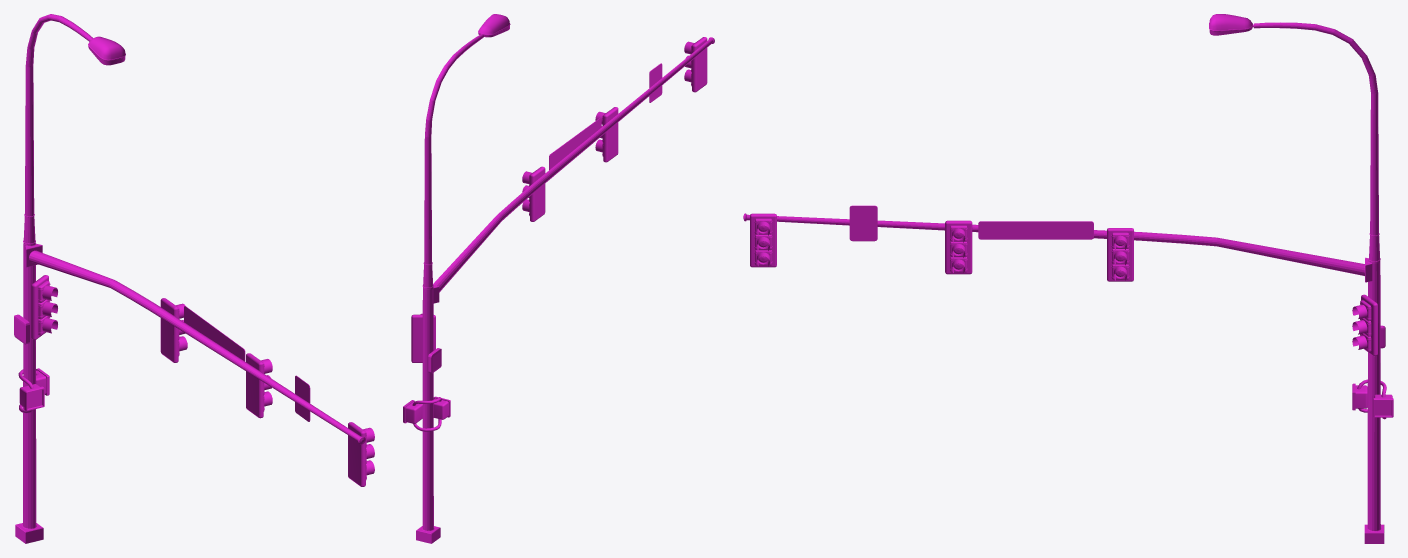
The model's file is TrafficLightMap2_v1.fbx.
3 views of the same model, side by side, from view 1: azimuth 30°, elevation 25°; view 2: azimuth 150°, elevation 25°; view 3: azimuth 270°, elevation 25° (orthographic). The views are drawn at different scales.
Parts seen in each view (by area): view 1: TrafficLightMap2_v1_mainBody, TrafficLightMap2_v1_signs, TrafficLightMap2_v1_light_1_4, TrafficLightMap2_v1_light_5_4, TrafficLightMap2_v1_light_3_4, TrafficLightMap2_v1_light_2_4, TrafficLightMap2_v1_light_4_3; view 2: TrafficLightMap2_v1_mainBody, TrafficLightMap2_v1_signs, TrafficLightMap2_v1_light_4_3, TrafficLightMap2_v1_light_5_4, TrafficLightMap2_v1_light_2_4, TrafficLightMap2_v1_light_3_4, TrafficLightMap2_v1_light_1_4; view 3: TrafficLightMap2_v1_mainBody, TrafficLightMap2_v1_signs, TrafficLightMap2_v1_light_3_4, TrafficLightMap2_v1_light_5_4, TrafficLightMap2_v1_light_2_4, TrafficLightMap2_v1_light_1_4, TrafficLightMap2_v1_light_4_3.
Boxes of the visible parts, x1=… form: TrafficLightMap2_v1_mainBody: x1=14, y1=14, x2=365, y2=543; TrafficLightMap2_v1_signs: x1=184, y1=306, x2=310, y2=421; TrafficLightMap2_v1_light_1_4: x1=31, y1=275, x2=57, y2=339; TrafficLightMap2_v1_light_5_4: x1=348, y1=422, x2=374, y2=486; TrafficLightMap2_v1_light_3_4: x1=246, y1=353, x2=272, y2=418; TrafficLightMap2_v1_light_2_4: x1=160, y1=298, x2=187, y2=362; TrafficLightMap2_v1_light_4_3: x1=18, y1=368, x2=49, y2=413; TrafficLightMap2_v1_mainBody: x1=416, y1=14, x2=714, y2=543; TrafficLightMap2_v1_signs: x1=549, y1=63, x2=662, y2=169; TrafficLightMap2_v1_light_4_3: x1=403, y1=396, x2=450, y2=431; TrafficLightMap2_v1_light_5_4: x1=684, y1=37, x2=707, y2=92; TrafficLightMap2_v1_light_2_4: x1=522, y1=166, x2=545, y2=221; TrafficLightMap2_v1_light_3_4: x1=595, y1=107, x2=618, y2=162; TrafficLightMap2_v1_light_1_4: x1=411, y1=313, x2=435, y2=362; TrafficLightMap2_v1_mainBody: x1=743, y1=14, x2=1385, y2=543; TrafficLightMap2_v1_signs: x1=849, y1=205, x2=1093, y2=241; TrafficLightMap2_v1_light_3_4: x1=945, y1=220, x2=972, y2=274; TrafficLightMap2_v1_light_5_4: x1=750, y1=213, x2=776, y2=267; TrafficLightMap2_v1_light_2_4: x1=1107, y1=228, x2=1133, y2=281; TrafficLightMap2_v1_light_1_4: x1=1352, y1=294, x2=1377, y2=356; TrafficLightMap2_v1_light_4_3: x1=1352, y1=379, x2=1393, y2=419.
Size of the model in its own units: 91.77 by 1364 by 1534.
